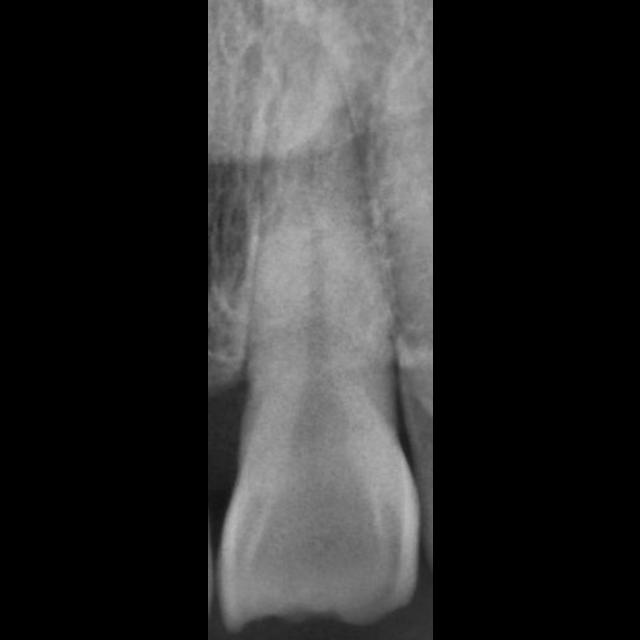tooth: (207, 0, 431, 627)
